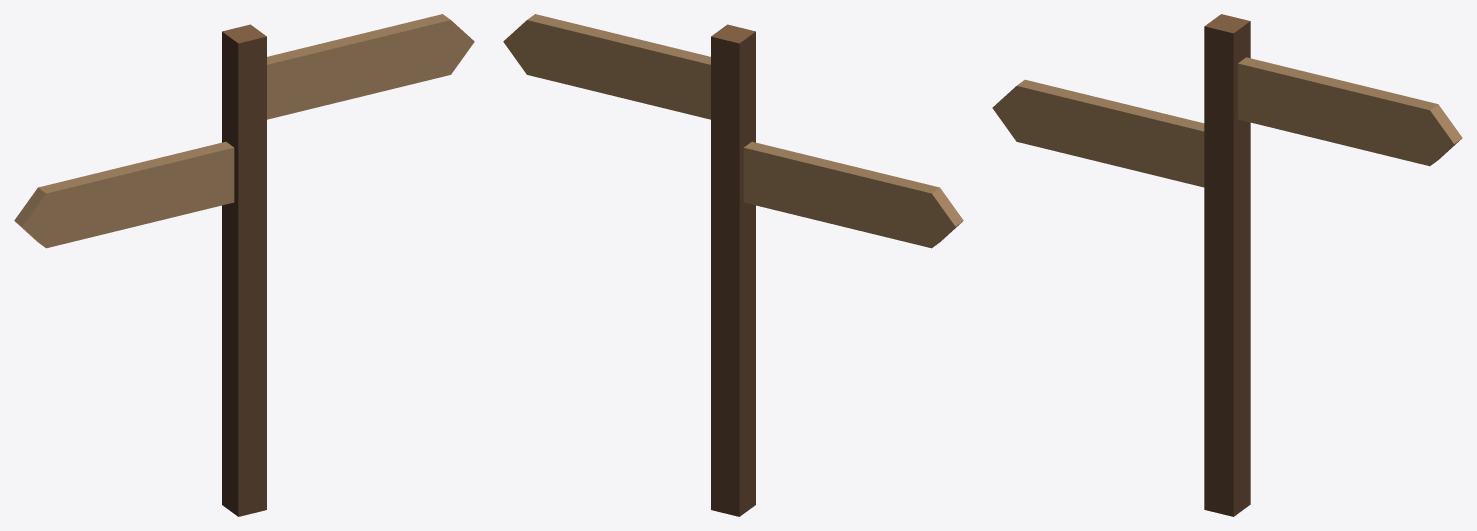
File: signpost.glb
The picture shows the model from 3 angles, left to right: view 1: azimuth 30°, elevation 25°; view 2: azimuth 150°, elevation 25°; view 3: azimuth 330°, elevation 25°; orthographic projection. The views are drawn at different scales.
Visible parts, largest first — view 1: signpost; view 2: signpost; view 3: signpost.
Boxes of the visible parts, x1,y1,x2,y2 form: signpost: [14, 14, 474, 516]; signpost: [503, 14, 963, 516]; signpost: [992, 14, 1462, 516].
Size of the model in its own units: 1.9 by 1.9 by 0.12.
